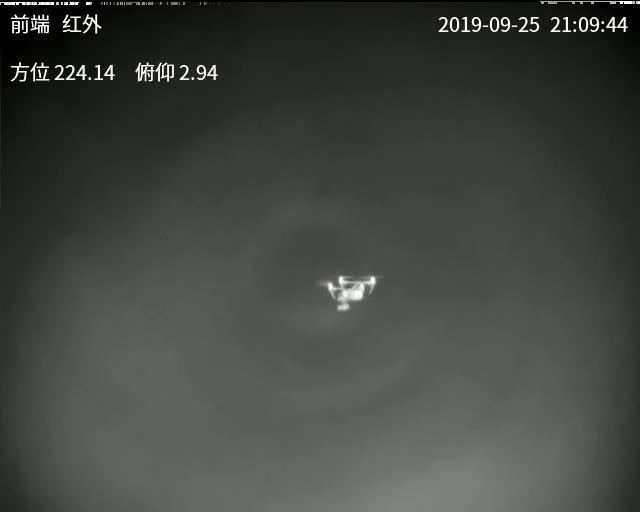uav: (322, 277, 379, 317)
